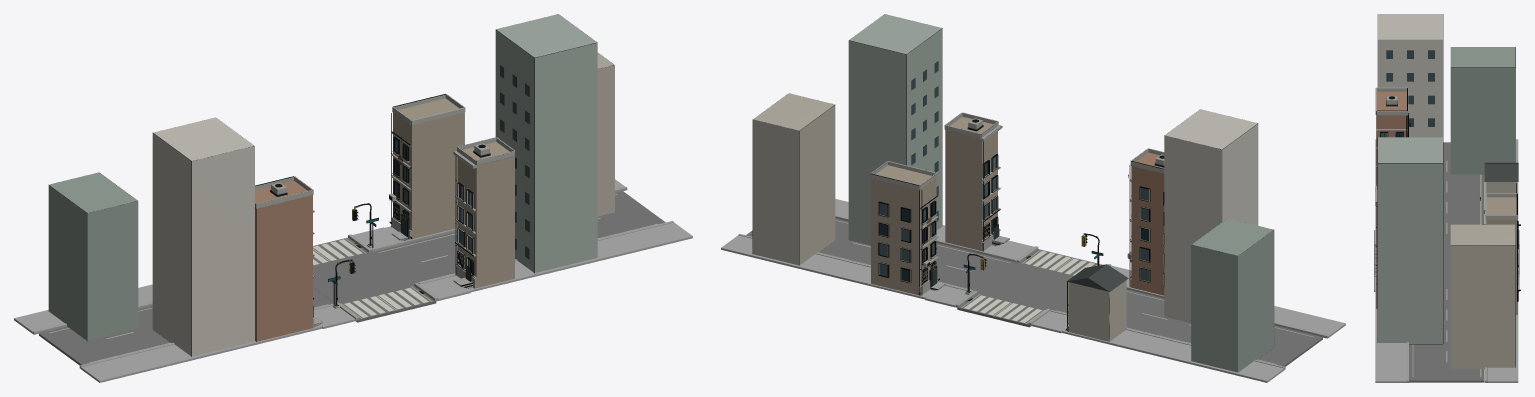
Rendered from city_hd_11.glb.
3 renders of one model, left to right at view 1: azimuth 30°, elevation 25°; view 2: azimuth 150°, elevation 25°; view 3: azimuth 270°, elevation 25°, orthographic. The views are drawn at different scales.
Visible parts, largest first — view 1: CITY_awning_green, CITY_PBR_asphalt, CITY_PBR_pavement, CITY_curb, CITY_zebra_paint, CITY_paint; view 2: CITY_awning_green, CITY_PBR_asphalt, CITY_PBR_pavement, CITY_curb, CITY_zebra_paint, CITY_paint; view 3: CITY_awning_green, CITY_PBR_asphalt, CITY_PBR_pavement, CITY_paint, CITY_curb.
Boxes of the visible parts, <box> form: CITY_awning_green: <box>48,14,614,356</box>; CITY_PBR_asphalt: <box>39,191,665,365</box>; CITY_PBR_pavement: <box>14,179,692,382</box>; CITY_curb: <box>33,186,673,368</box>; CITY_zebra_paint: <box>313,239,428,317</box>; CITY_paint: <box>49,194,657,362</box>; CITY_awning_green: <box>752,14,1274,372</box>; CITY_PBR_asphalt: <box>746,218,1322,366</box>; CITY_PBR_pavement: <box>721,199,1345,382</box>; CITY_curb: <box>738,215,1328,369</box>; CITY_zebra_paint: <box>964,250,1100,322</box>; CITY_paint: <box>819,220,1313,364</box>; CITY_awning_green: <box>1375,14,1520,368</box>; CITY_PBR_asphalt: <box>1374,142,1519,382</box>; CITY_PBR_pavement: <box>1374,139,1519,382</box>; CITY_paint: <box>1374,160,1519,377</box>; CITY_curb: <box>1374,182,1519,382</box>.
Size of the model in its own units: 63 by 22.26 by 16.14.
7 materials, 1 textured.
